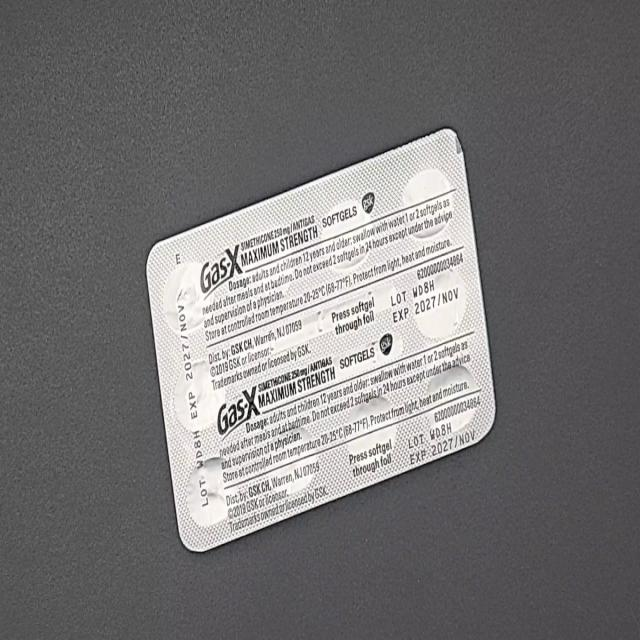no defect: (9, 24, 38, 80)
